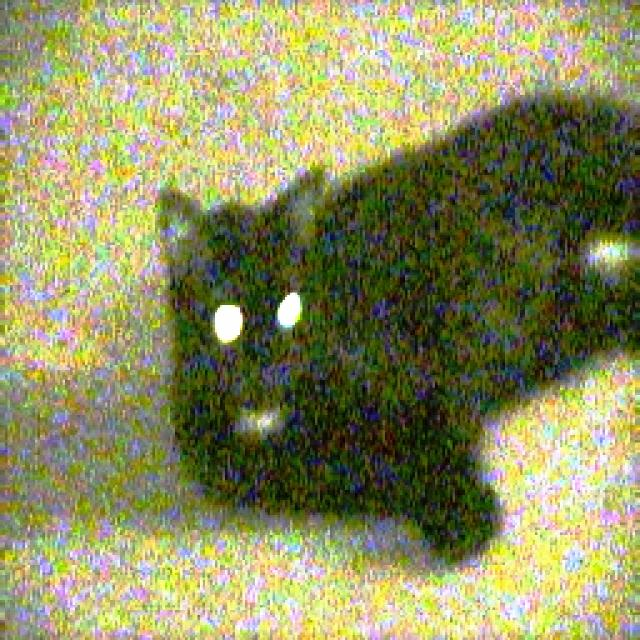cat: (159, 92, 640, 565)
